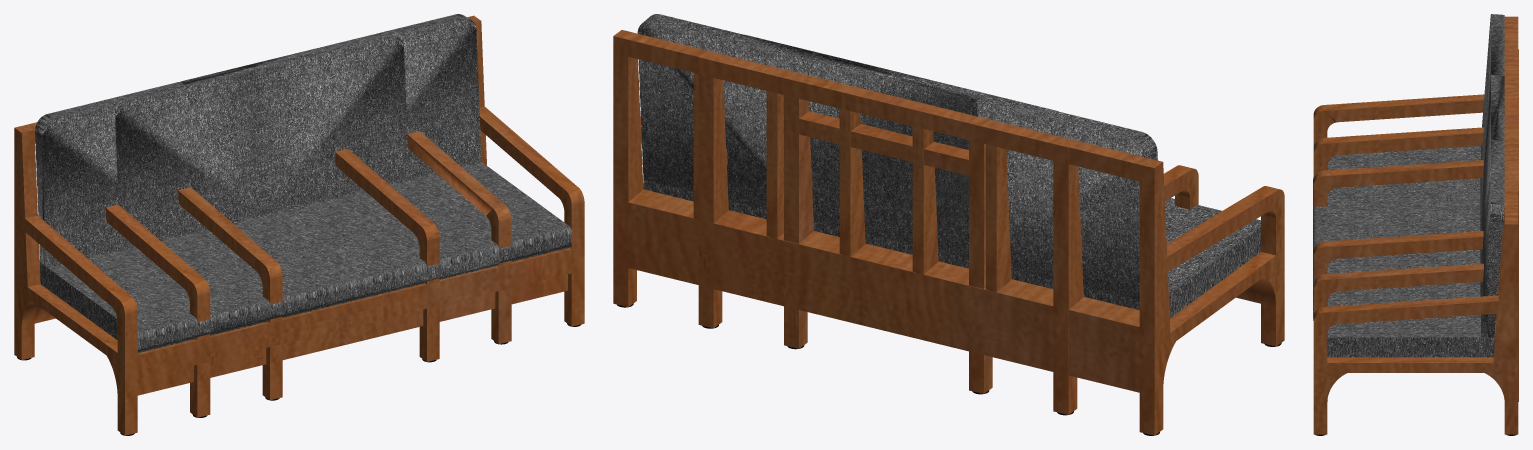
The model's file is sofas.glb.
3 renders of one model, left to right at view 1: azimuth 30°, elevation 25°; view 2: azimuth 150°, elevation 25°; view 3: azimuth 270°, elevation 25°, orthographic. The views are drawn at different scales.
Parts seen in each view (by area): view 1: sofa3, sofa2, chair; view 2: sofa3, sofa2, chair; view 3: sofa3, sofa2, chair.
Part boxes in pixels (<box>): sofa3: <box>14,14,584,435</box>; sofa2: <box>105,36,511,417</box>; chair: <box>178,149,439,400</box>; sofa3: <box>613,14,1284,435</box>; sofa2: <box>698,34,1198,415</box>; chair: <box>784,72,992,394</box>; sofa3: <box>1313,14,1518,435</box>; sofa2: <box>1313,47,1518,401</box>; chair: <box>1313,82,1518,279</box>.
Bounding box in the file's own units: 1.8 × 0.907 × 0.7537.
3 materials, 2 textured.
